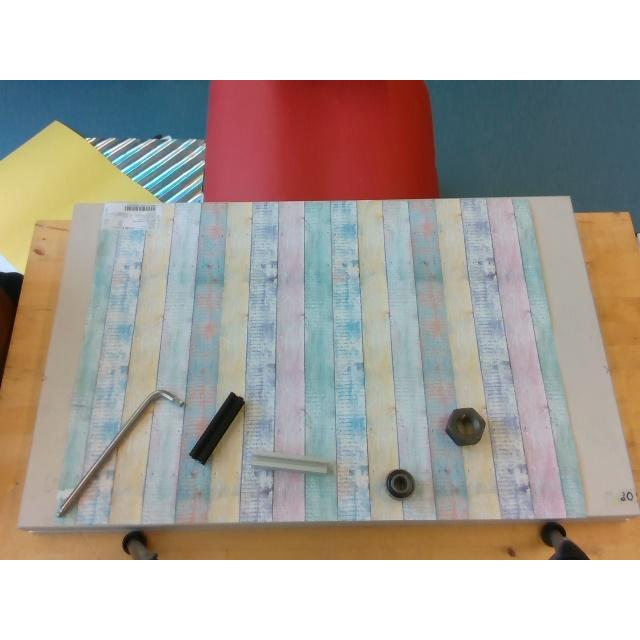AllenKey: (56, 389, 184, 515)
Bearing2: (386, 468, 414, 499)
F20_20_B: (188, 392, 244, 463)
F20_20_G: (252, 452, 334, 472)
M30: (445, 408, 485, 444)
